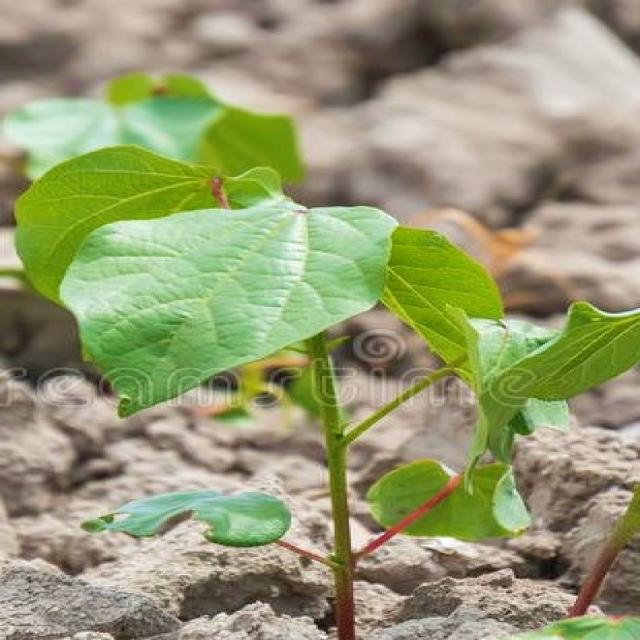Healthy Leaf: (58, 167, 640, 640)
